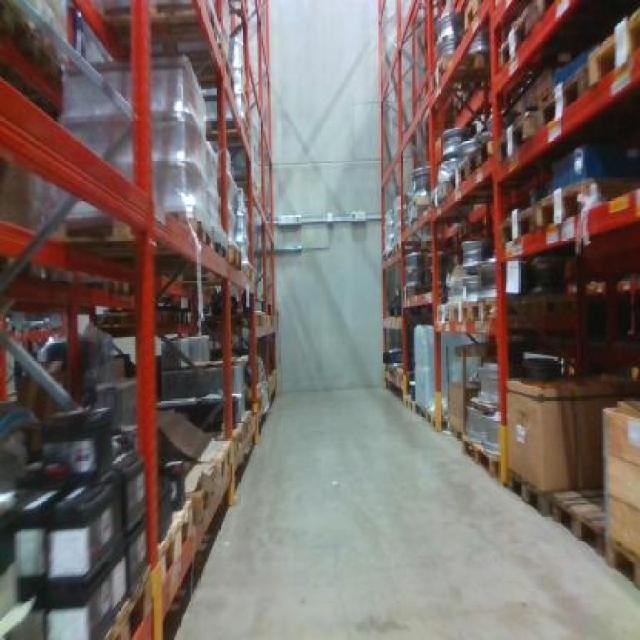pallet: (508, 469, 640, 575), (580, 12, 640, 82), (438, 296, 514, 341)
